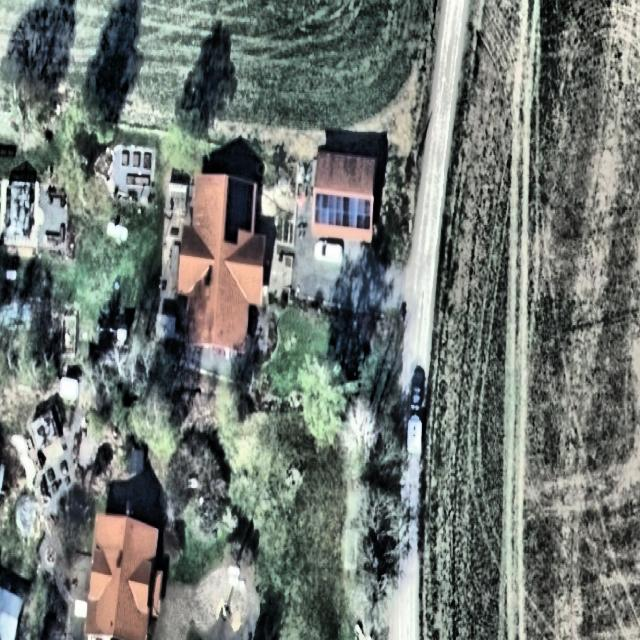roof_pv: (313, 191, 374, 233), (224, 175, 254, 245)
